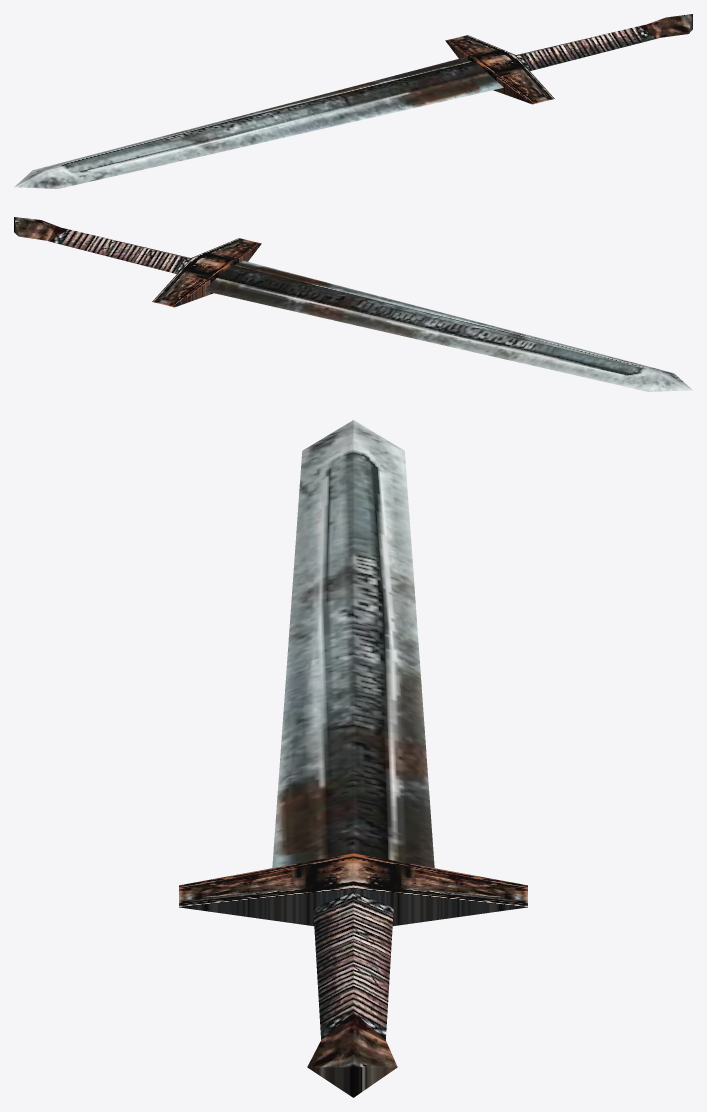
The model's file is ITMW_010_1H_SWORD_SHORT_01.glb.
3 renders of one model, top to bottom at view 1: azimuth 30°, elevation 25°; view 2: azimuth 150°, elevation 25°; view 3: azimuth 270°, elevation 25°, orthographic. The views are drawn at different scales.
Visible parts, largest first — view 1: ITMW_010_1H_SWORD_SHORT_01; view 2: ITMW_010_1H_SWORD_SHORT_01; view 3: ITMW_010_1H_SWORD_SHORT_01.
Boxes of the visible parts, <box> form: ITMW_010_1H_SWORD_SHORT_01: <box>14,14,692,188</box>; ITMW_010_1H_SWORD_SHORT_01: <box>14,217,692,391</box>; ITMW_010_1H_SWORD_SHORT_01: <box>179,420,527,1097</box>.
Size of the model in its own units: 0.6943 by 0.021 by 0.1545.
2 materials, 2 textured.
